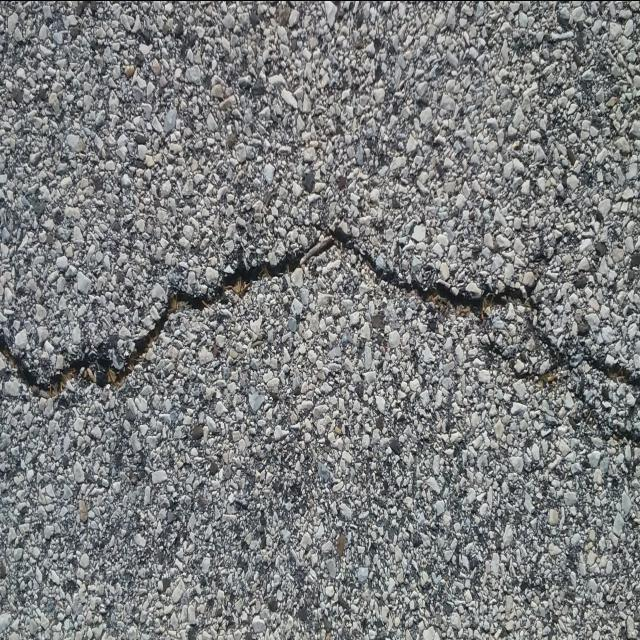Crack: (0, 215, 640, 449)
